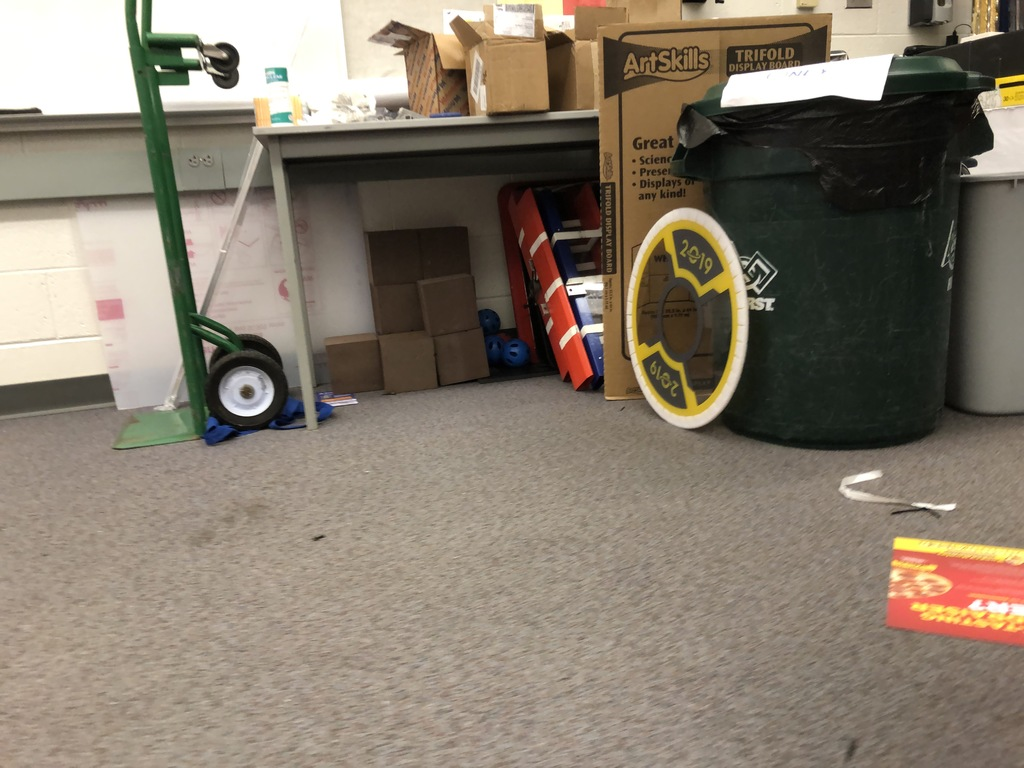hatch_panel: (620, 199, 760, 448)
